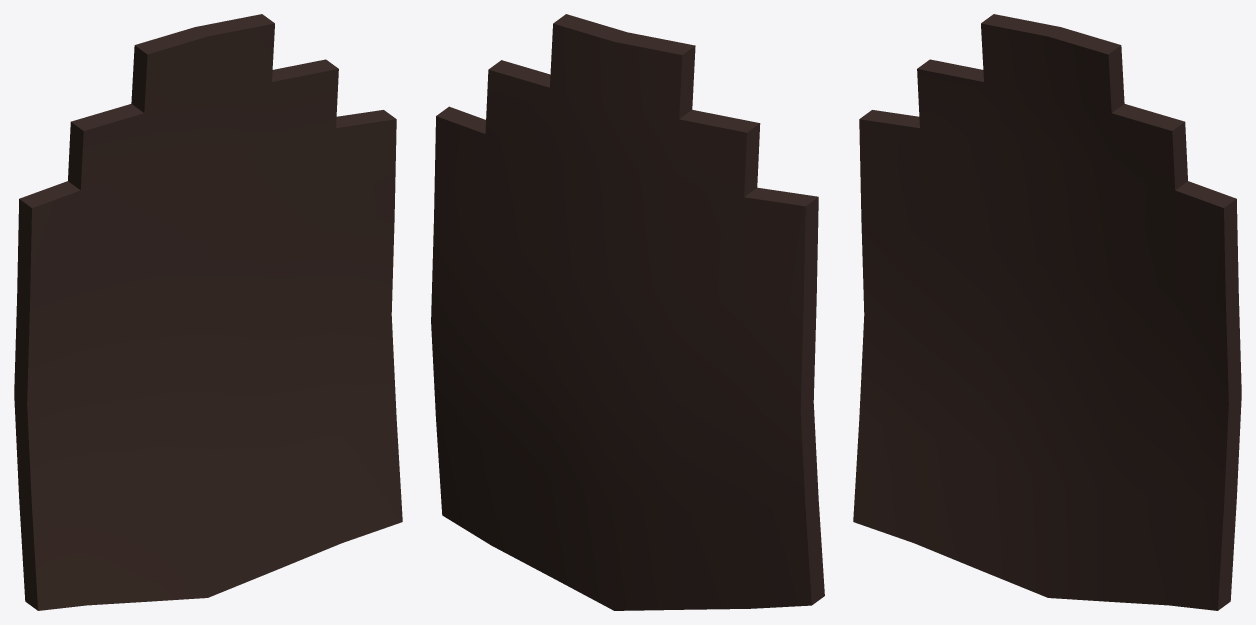
File: dun.fbx
3 renders of one model, left to right at view 1: azimuth 30°, elevation 25°; view 2: azimuth 150°, elevation 25°; view 3: azimuth 330°, elevation 25°, orthographic.
Visible parts, largest first — view 1: pCube1; view 2: pCube1; view 3: pCube1.
Part boxes in pixels (left/top/right/bottom): pCube1: left=14, top=14, right=402, bottom=610; pCube1: left=431, top=14, right=824, bottom=610; pCube1: left=853, top=14, right=1241, bottom=610.
Bounding box in the file's own units: 2.5 × 3.67 × 0.4325.
